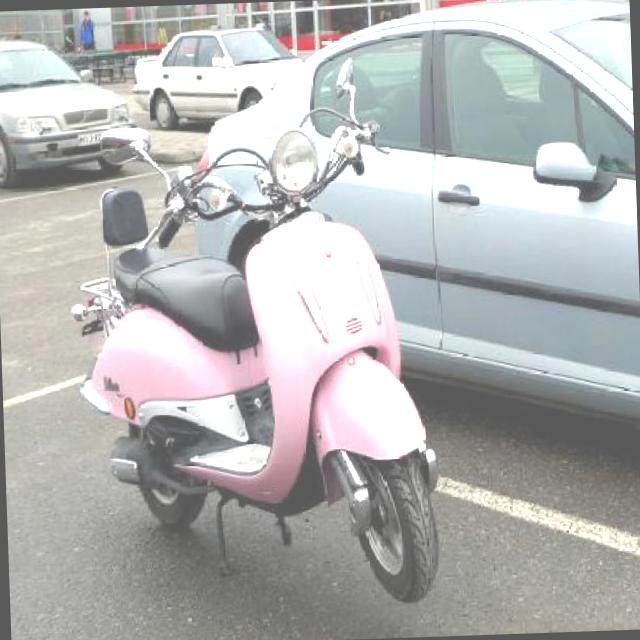Person: (76, 8, 94, 48)
